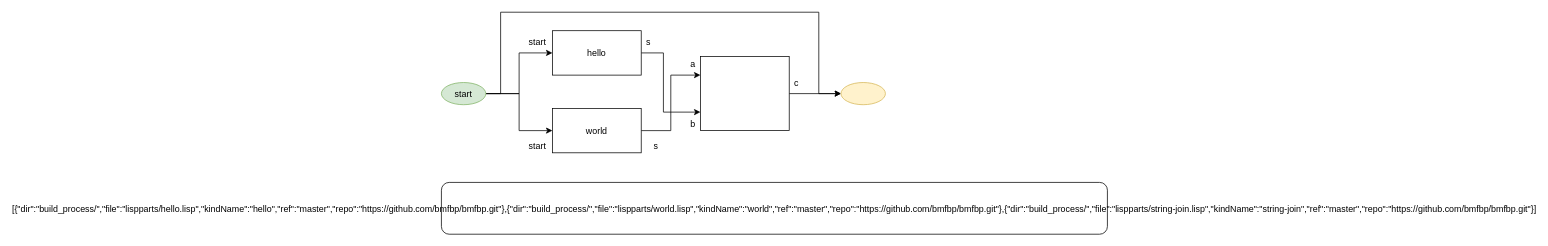
Some shapes in this 1548 by 246 pixel diagram are drawn without their labels. The shapes that lost their labels are listed below. From the top down, each one's centre as x and y in pixels, then its label:
the point at 744,93: string-join
the point at 862,93: result
